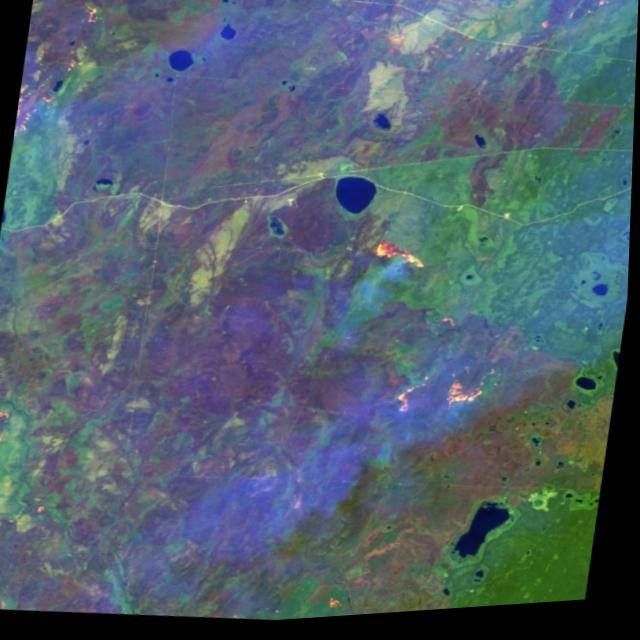fire: (14, 0, 115, 149), (389, 353, 513, 437), (360, 230, 444, 288)
